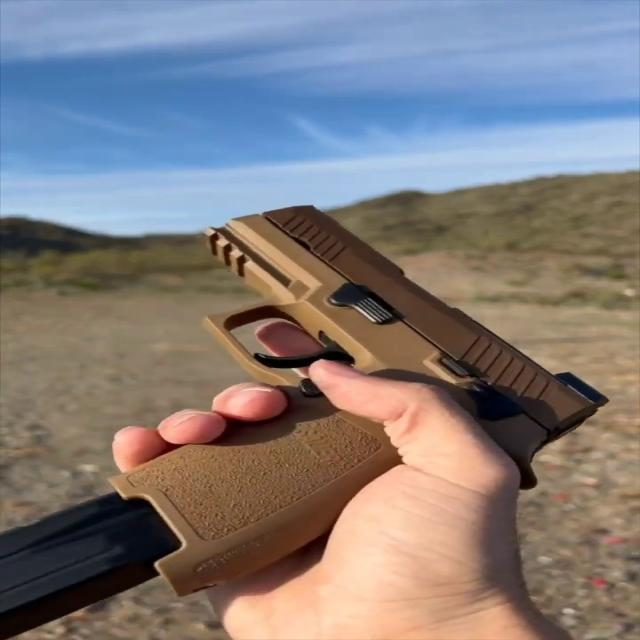Handgun: (111, 200, 629, 614)
